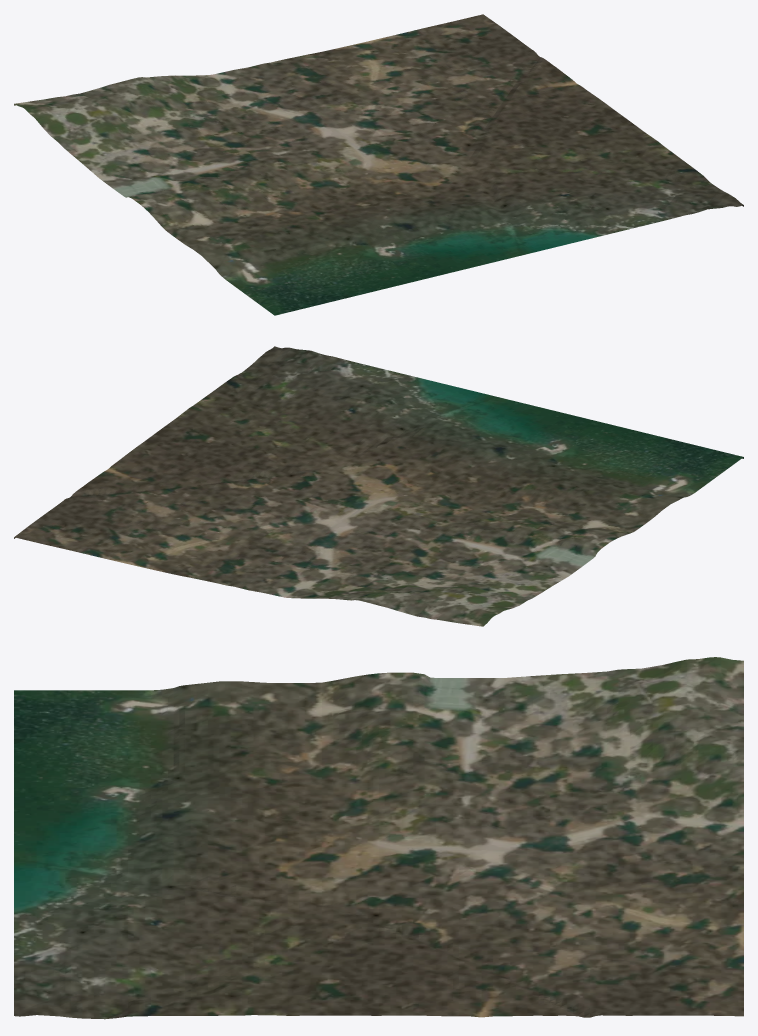
The picture shows the model from 3 angles, top to bottom: view 1: azimuth 30°, elevation 25°; view 2: azimuth 150°, elevation 25°; view 3: azimuth 270°, elevation 25°; orthographic projection. The views are drawn at different scales.
Bounding box in the file's own units: 250 × 16.13 × 241.
1 material, 1 textured.
